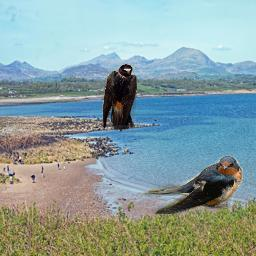Swallow: (136, 155, 243, 214), (102, 64, 137, 132)
